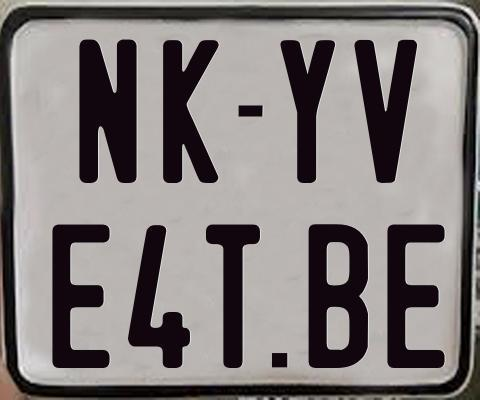4: (128, 225, 191, 372)
B: (305, 224, 371, 371)
E: (385, 223, 446, 372), (49, 223, 109, 369)
K: (162, 37, 223, 185)
N: (79, 38, 137, 188)
T: (206, 222, 261, 372)
V: (354, 40, 417, 183)
Y: (278, 37, 338, 183)
